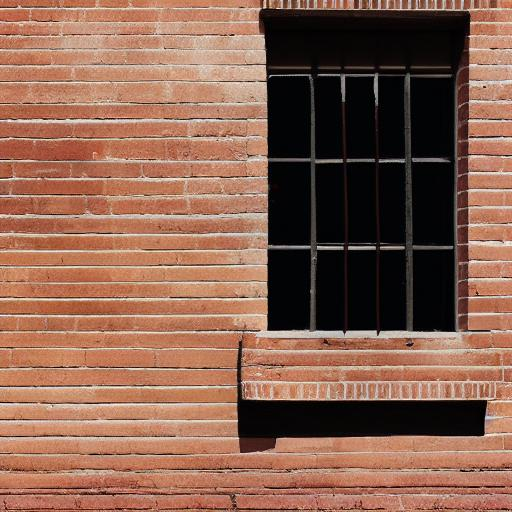Window: (237, 0, 499, 402)
